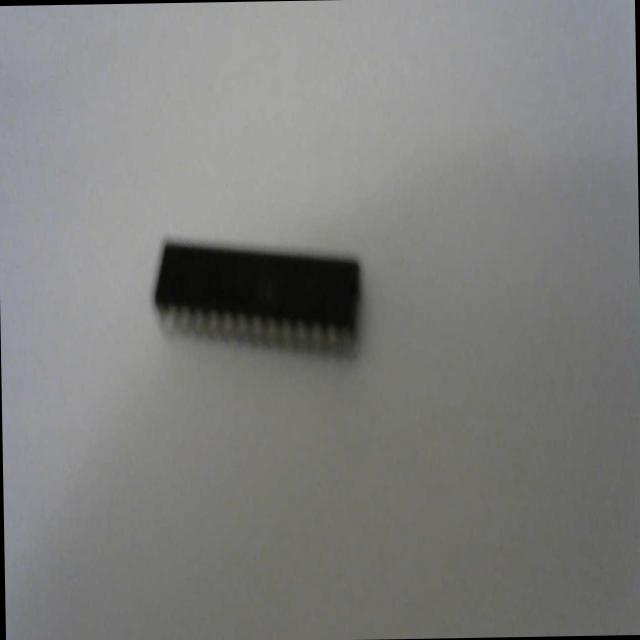atmega: (150, 229, 365, 367)
